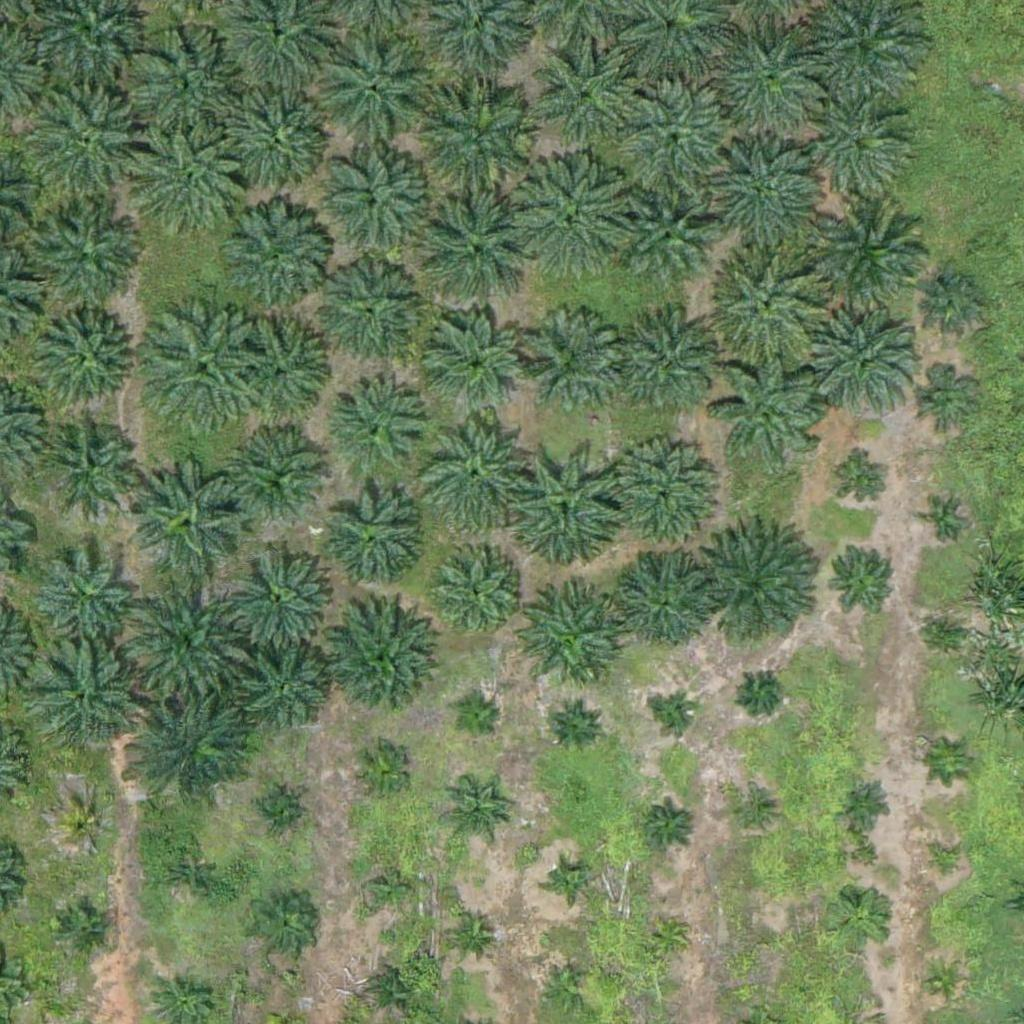Kelapa_Sawit: (22, 78, 147, 204), (130, 123, 255, 249), (123, 25, 248, 151), (213, 73, 338, 199), (209, 194, 334, 320), (311, 144, 436, 270), (311, 27, 436, 153), (417, 74, 542, 200), (416, 190, 541, 316), (612, 86, 737, 212), (699, 137, 824, 263), (707, 23, 832, 149), (811, 205, 936, 331), (505, 444, 630, 570), (413, 410, 538, 536), (138, 305, 263, 431), (123, 575, 248, 701), (131, 686, 256, 812), (512, 157, 637, 282), (701, 525, 826, 650), (322, 606, 435, 720), (713, 352, 826, 465), (602, 438, 715, 551), (31, 644, 144, 757), (223, 536, 335, 650), (133, 456, 245, 570), (27, 205, 139, 318), (810, 312, 922, 425), (714, 247, 826, 360), (511, 588, 623, 701), (537, 48, 637, 149), (811, 100, 911, 201), (612, 549, 712, 650), (618, 314, 718, 415), (517, 313, 617, 414), (427, 316, 527, 417), (426, 543, 526, 644), (315, 263, 415, 364), (327, 379, 427, 480), (229, 312, 329, 413), (35, 545, 135, 646), (319, 488, 419, 588), (232, 427, 332, 527), (32, 307, 132, 407), (41, 415, 141, 515), (241, 647, 329, 735), (622, 196, 709, 285), (825, 541, 900, 616), (443, 786, 506, 849), (349, 740, 412, 803), (912, 368, 975, 431), (922, 270, 985, 333), (360, 857, 423, 920), (253, 895, 315, 958), (830, 887, 892, 950), (157, 844, 219, 907), (370, 965, 420, 1016), (839, 458, 889, 509), (446, 908, 496, 959), (250, 786, 300, 837), (60, 903, 110, 953), (550, 701, 600, 751), (644, 799, 694, 849), (840, 778, 890, 828), (543, 963, 593, 1013), (451, 696, 501, 746), (61, 803, 111, 853), (934, 743, 972, 781), (741, 671, 779, 709), (927, 844, 965, 882), (925, 963, 963, 1001), (649, 917, 687, 955), (552, 862, 590, 900), (658, 697, 695, 735), (735, 795, 772, 833), (747, 924, 784, 962), (925, 505, 962, 542), (929, 615, 966, 652)
